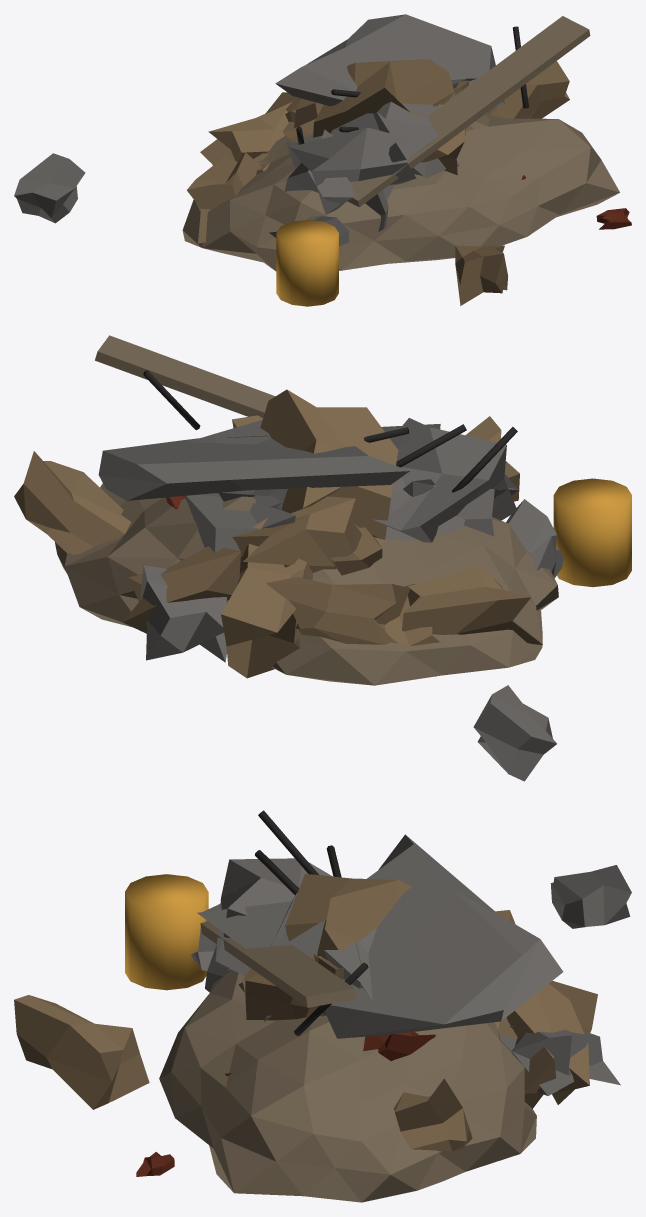
The model's file is cover_rubble_1.glb.
The picture shows the model from 3 angles, top to bottom: view 1: azimuth 30°, elevation 25°; view 2: azimuth 150°, elevation 25°; view 3: azimuth 270°, elevation 25°; orthographic projection. The views are drawn at different scales.
Visible parts, largest first — view 1: mound, slab, plank, lump_20, lump_19, bucket, lump_34, lump_17, lump_25, lump_35, lump_5, lump_33 (+8 smaller); view 2: mound, slab, lump_20, lump_19, bucket, lump_0, lump_5, lump_17, lump_25, lump_16, plank, lump_12 (+11 smaller); view 3: mound, slab, lump_35, bucket, lump_20, lump_4, plank, lump_19, lump_34, lump_5, lump_12, lump_31 (+6 smaller).
Boxes of the visible parts, bbox=[...] form: mound: bbox=[182, 114, 619, 271]; slab: bbox=[275, 14, 504, 162]; plank: bbox=[347, 16, 590, 207]; lump_20: bbox=[313, 59, 455, 137]; lump_19: bbox=[286, 127, 416, 214]; bucket: bbox=[276, 220, 338, 306]; lump_34: bbox=[14, 153, 85, 223]; lump_17: bbox=[200, 101, 292, 165]; lump_25: bbox=[187, 152, 261, 243]; lump_35: bbox=[455, 245, 508, 305]; lump_5: bbox=[485, 61, 569, 118]; lump_33: bbox=[284, 129, 354, 203]; mound: bbox=[55, 483, 558, 685]; slab: bbox=[98, 424, 440, 500]; lump_20: bbox=[260, 389, 398, 539]; lump_19: bbox=[373, 418, 517, 542]; bucket: bbox=[553, 478, 631, 587]; lump_0: bbox=[221, 518, 312, 678]; lump_5: bbox=[14, 451, 131, 554]; lump_17: bbox=[266, 577, 410, 644]; lump_25: bbox=[402, 567, 542, 644]; lump_16: bbox=[232, 496, 361, 572]; plank: bbox=[95, 335, 275, 417]; lump_12: bbox=[140, 565, 226, 662]; mound: bbox=[159, 970, 536, 1202]; slab: bbox=[197, 834, 563, 1038]; lump_35: bbox=[14, 995, 149, 1109]; bucket: bbox=[125, 874, 208, 990]; lump_20: bbox=[285, 873, 411, 961]; lump_4: bbox=[506, 984, 589, 1108]; plank: bbox=[200, 921, 355, 1007]; lump_19: bbox=[215, 858, 332, 975]; lump_34: bbox=[550, 865, 631, 928]; lump_5: bbox=[393, 1078, 472, 1151]; lump_12: bbox=[509, 1026, 620, 1095]; lump_31: bbox=[242, 943, 361, 1020].
Size of the model in its own units: 2.71 by 0.8793 by 2.22.
